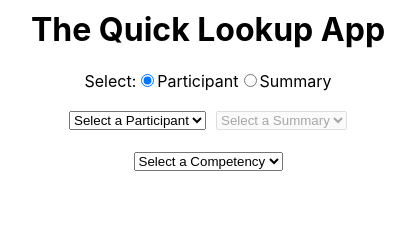
Correct output when selecting ‘Enthousiasm’ for participant 1 › should get the correct result after selecting 'Participant' and 'Competency' select boxes
Select "1" in the dropdown with test id "select-participant" at [138, 120], box [69, 111, 206, 130]
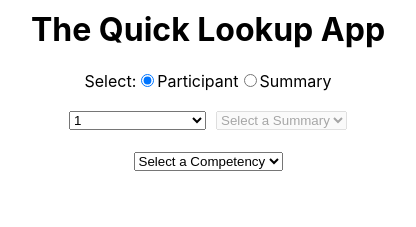
Select "Enthousiasm" in the dropdown with test id "select-competency" at [208, 161], box [134, 152, 282, 171]
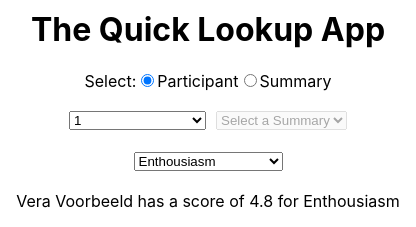
Expected: the text "Vera Voorbeeld has a score of 4.8 for Enthousiasm" is shown, [16, 191, 400, 211]
